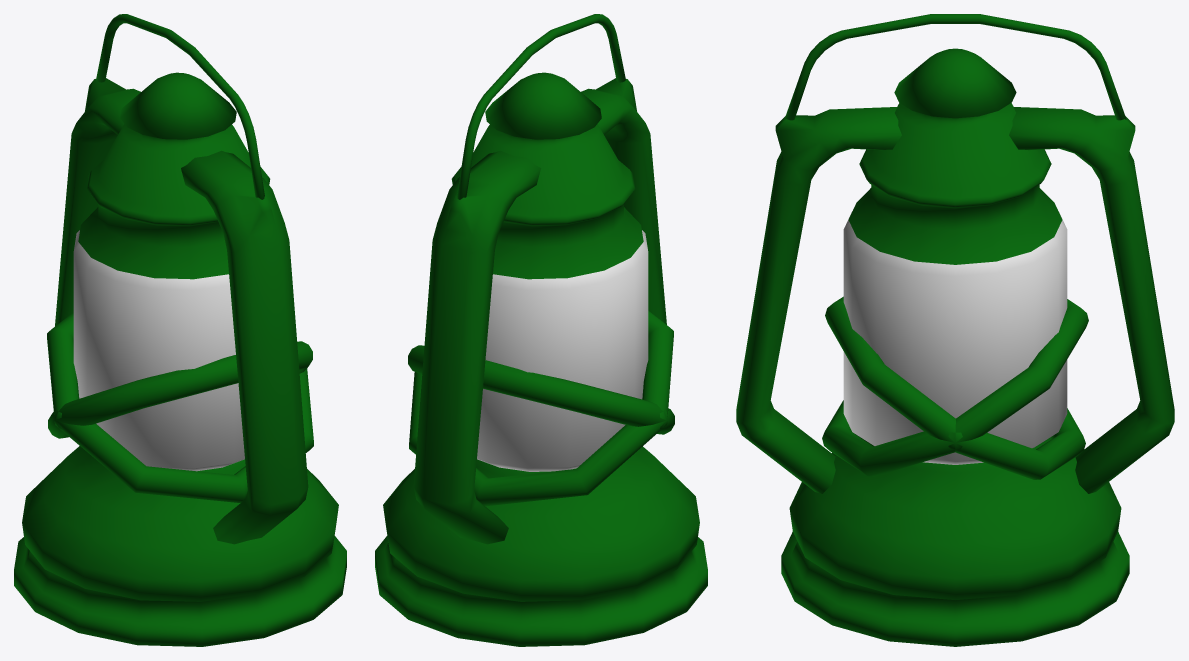
The model's file is GszLambası.fbx.
3 views of the same model, side by side, from view 1: azimuth 30°, elevation 25°; view 2: azimuth 150°, elevation 25°; view 3: azimuth 270°, elevation 25° (orthographic). The views are drawn at different scales.
Visible parts, largest first — view 1: Circle.003; view 2: Circle.003; view 3: Circle.003.
Boxes of the visible parts, x1,y1,x2,y2 form: Circle.003: (14, 14, 346, 646); Circle.003: (375, 14, 707, 646); Circle.003: (736, 14, 1174, 646).
Size of the model in its own units: 28.94 by 51.21 by 36.38.
